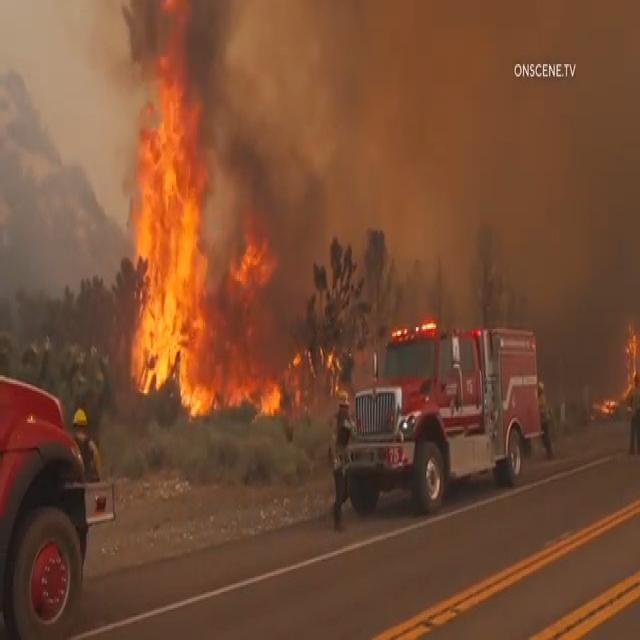fire: (129, 0, 226, 416), (218, 328, 313, 414)
smoke: (252, 26, 492, 207), (490, 189, 629, 332)
